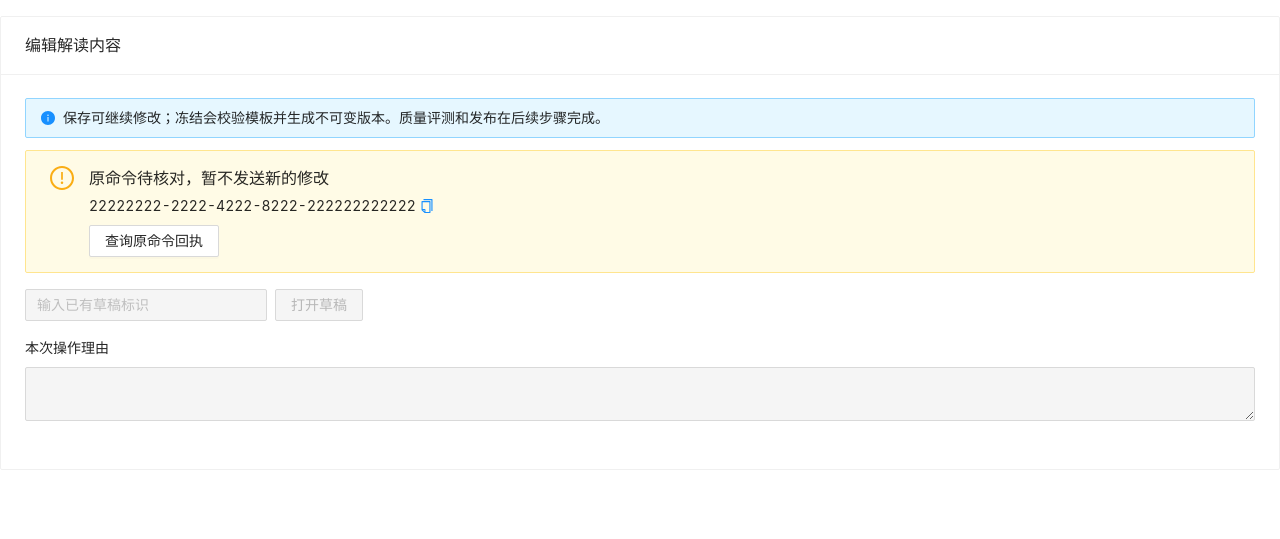
retains the original command lock when lifecycle refresh after a receipt fails
Click the button "查询原命令回执": {"x": 154, "y": 241} [89,225,219,257]
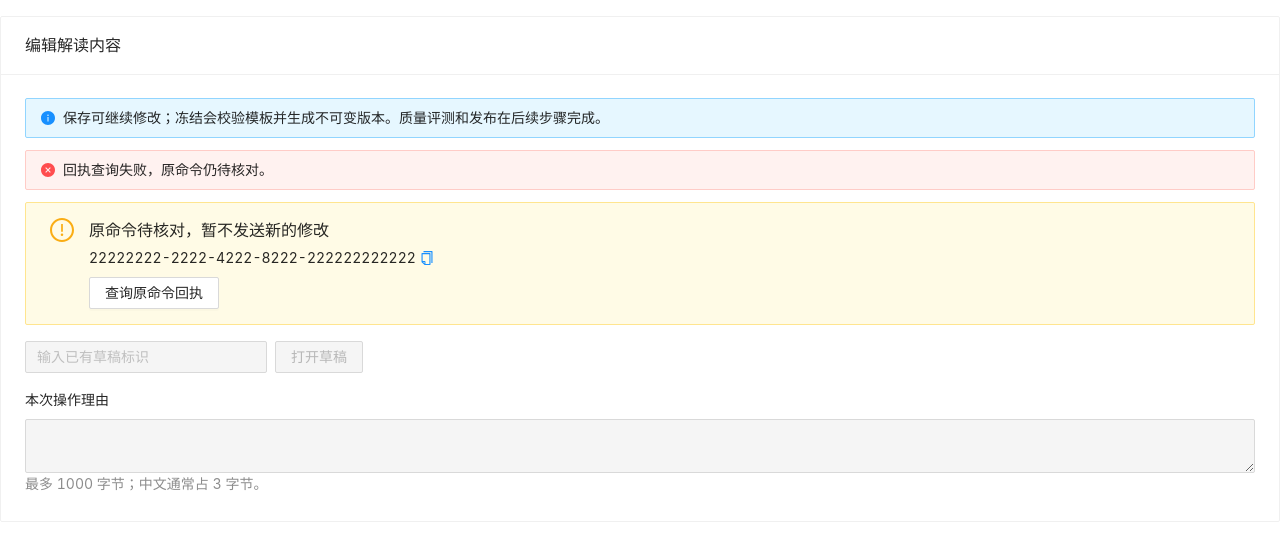
Check: the text "回执查询失败，原命令仍待核对。" is shown, box [63,161,273,178]
